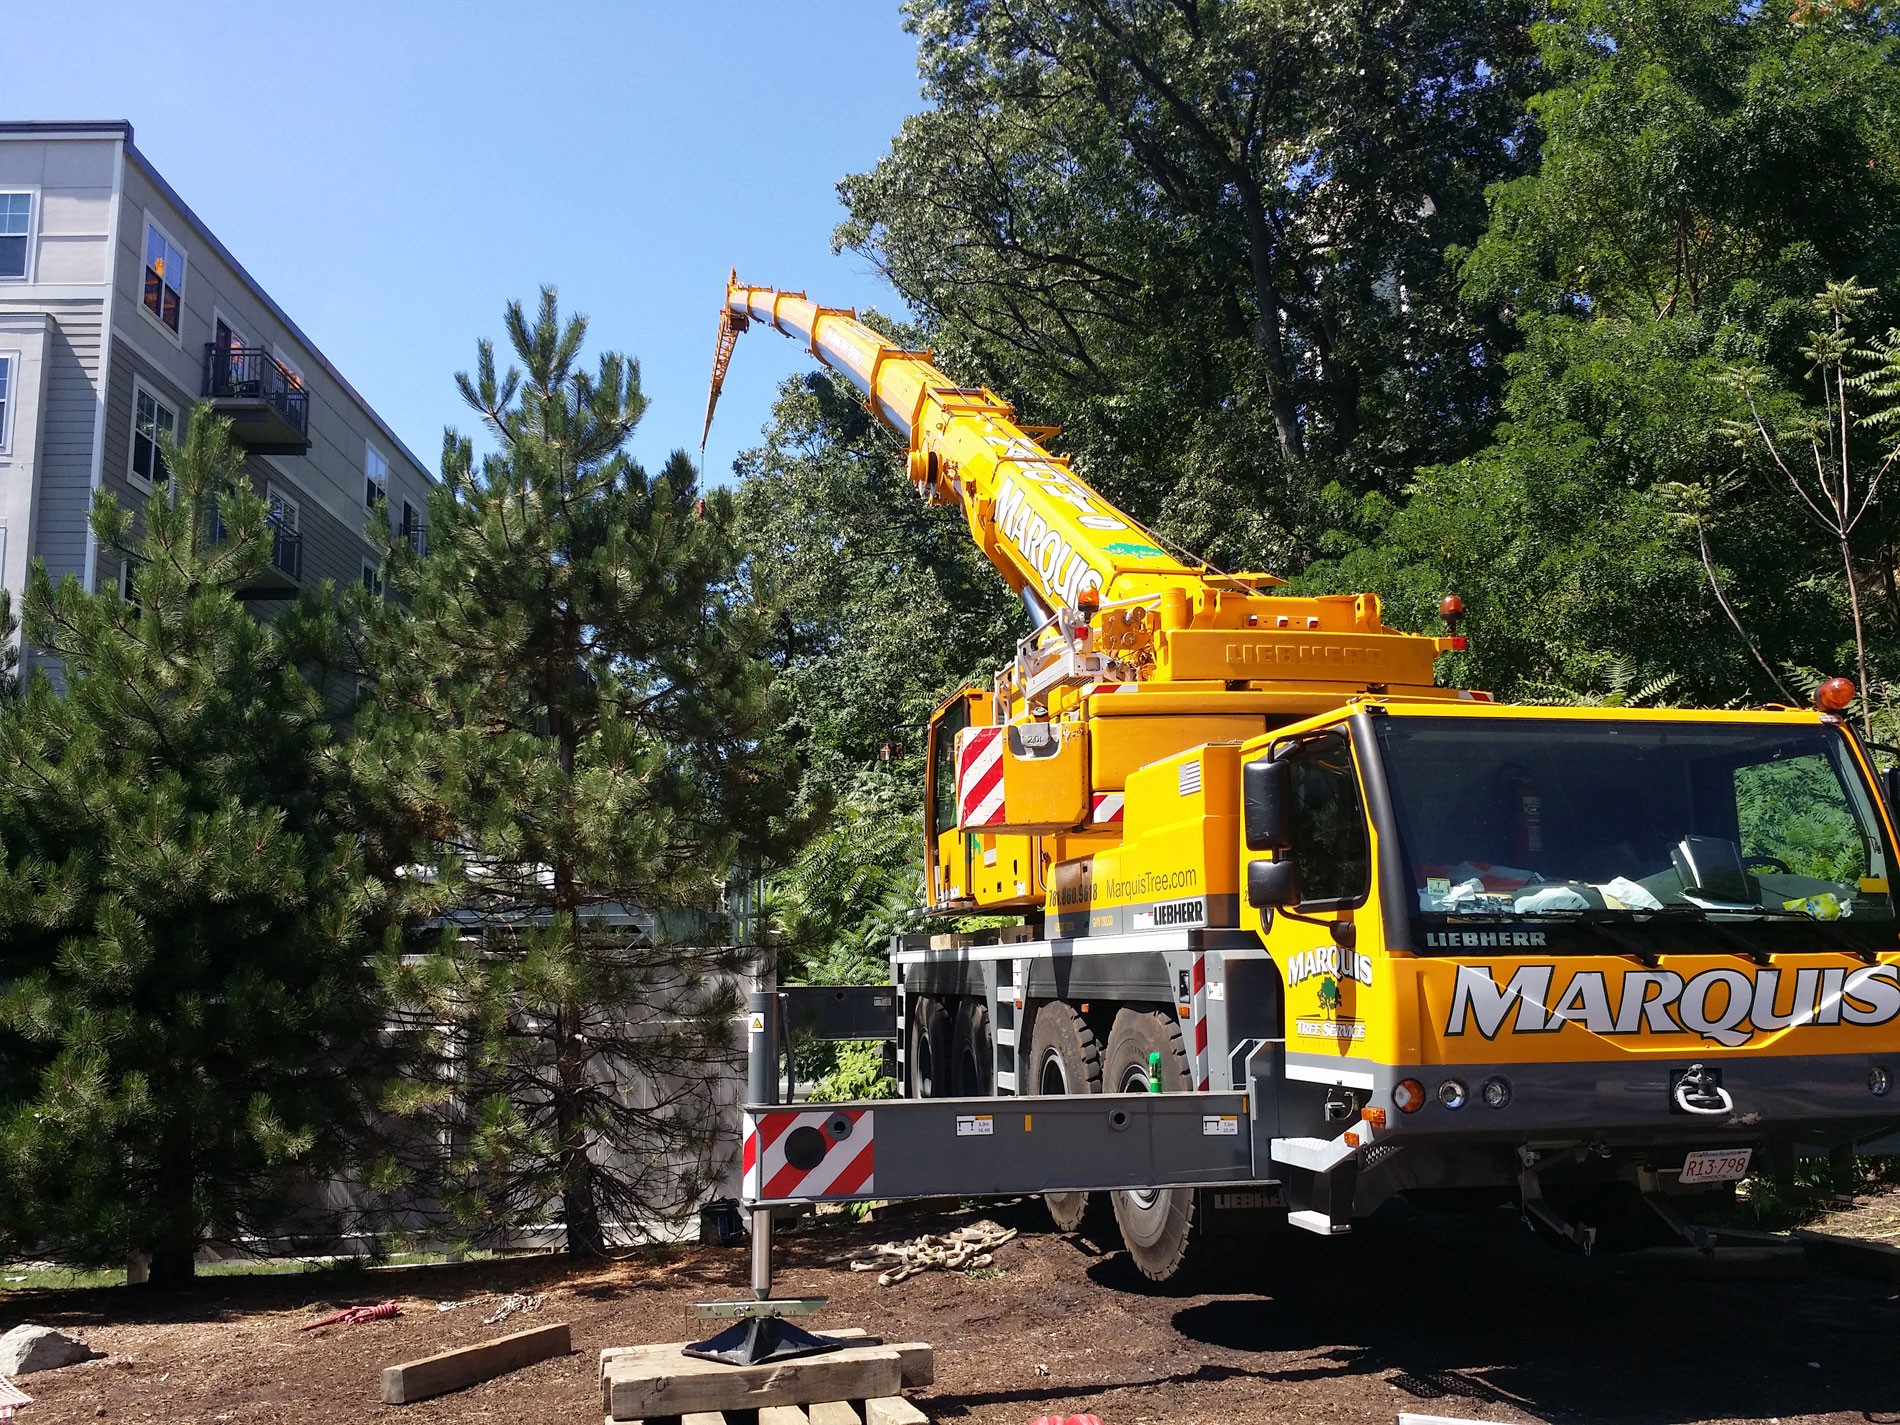crane: (693, 266, 1900, 1328)
